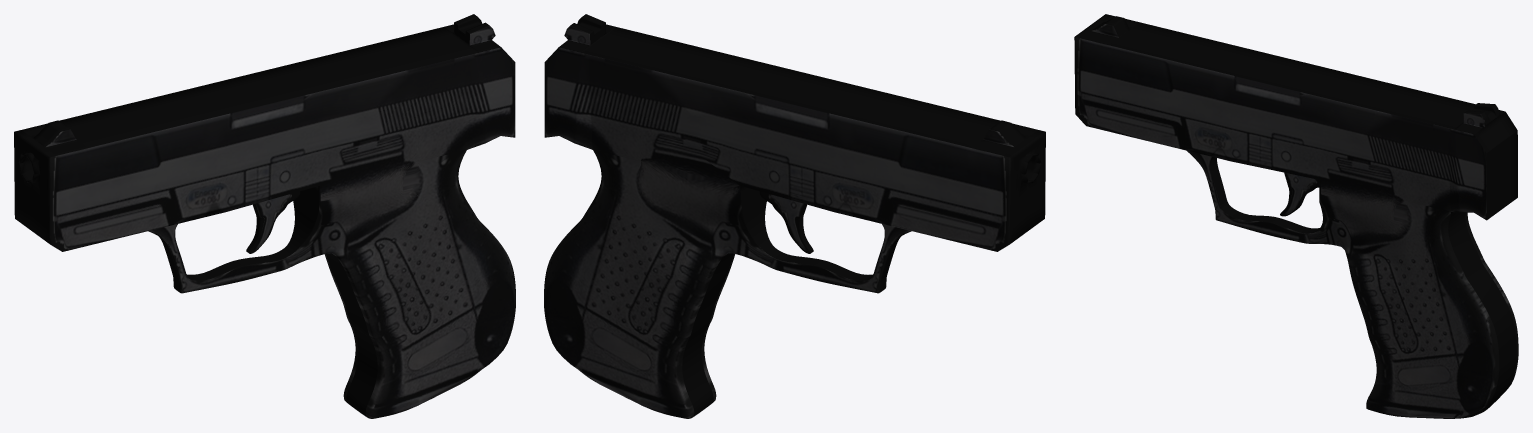
The model's file is Gun(Smooth).fbx.
3 renders of one model, left to right at view 1: azimuth 30°, elevation 25°; view 2: azimuth 150°, elevation 25°; view 3: azimuth 330°, elevation 25°, orthographic. The views are drawn at different scales.
Parts seen in each view (by area): view 1: Gun_MP; view 2: Gun_MP; view 3: Gun_MP.
Boxes of the visible parts, x1=… form: Gun_MP: x1=14, y1=14, x2=515, y2=418; Gun_MP: x1=544, y1=14, x2=1045, y2=418; Gun_MP: x1=1074, y1=14, x2=1518, y2=418.
Size of the model in its own units: 30.26 by 21.84 by 3.88.
